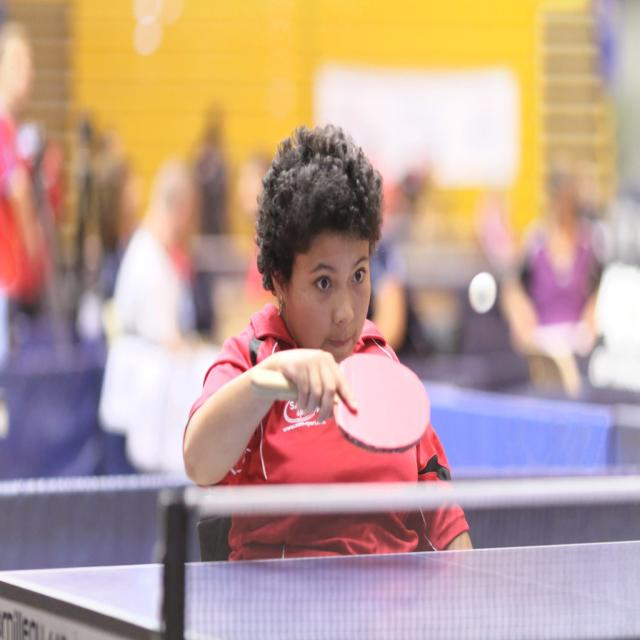Table: (0, 534, 640, 640)
